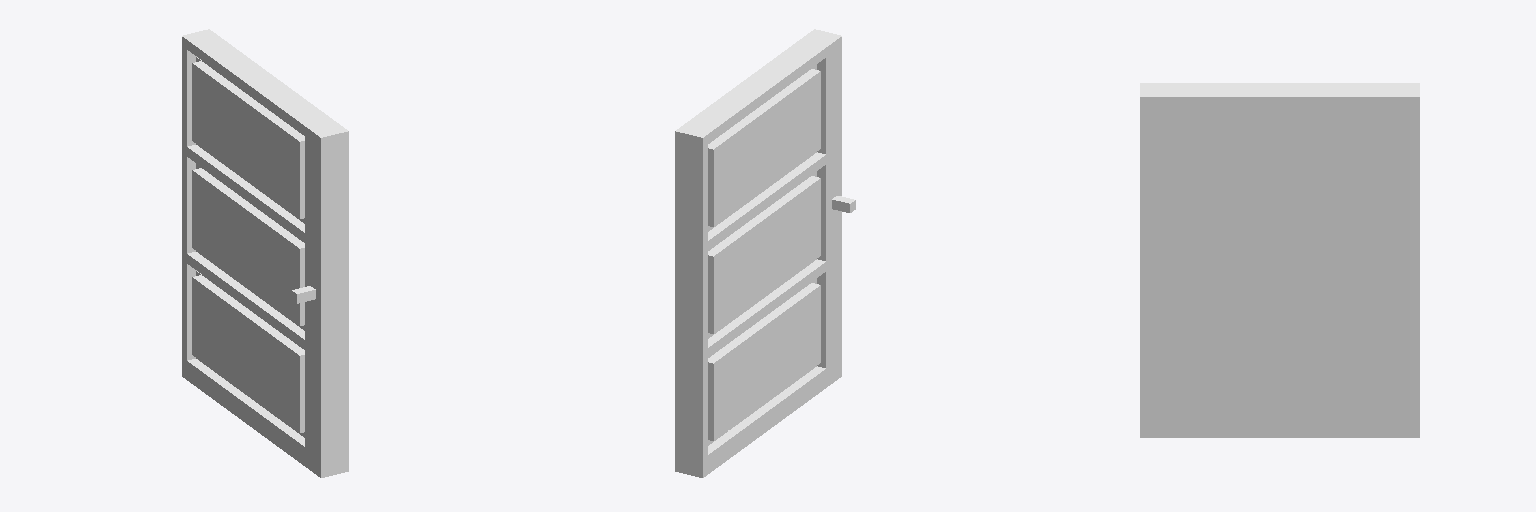
The model's file is door_V1.obj.
The picture shows the model from 3 angles: view 1: azimuth 30°, elevation 25°; view 2: azimuth 150°, elevation 25°; view 3: azimuth 270°, elevation 25°; orthographic projection.
Visible parts, largest first — view 1: door_V1; view 2: door_V1; view 3: door_V1.
Part boxes in pixels (x1,y1,x2,y2): door_V1: (182,29,348,477); door_V1: (675,29,855,477); door_V1: (1140,83,1419,437).
Size of the model in its own units: 5 by 35 by 26.